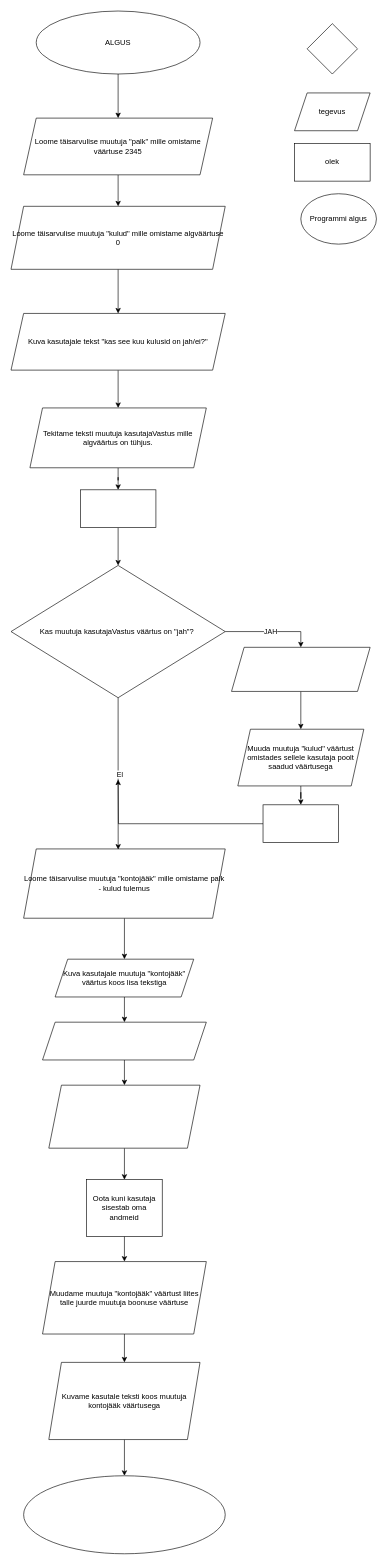
The diagram is 387 pixels wide and 1565 high, and some of its shapes have lost their labels. The centre of each missing label's shape, as x and y in pixels:
"Kuva kasutajale tekst mis palub sisestada väärtuse boonuse jaoks" belongs at point (124, 1041).
"Kuva kasutajale tekst: sisesta kulutuste summa" belongs at point (300, 669).
"Loome täisarvulise muutuja boonus mille omistame kasutaja sisesgtatud väärtuse" belongs at point (124, 1116).
"LÕPP" belongs at point (124, 1514).
"Oota kuni kasutaja sisestab väärtuse" belongs at point (300, 823).
"Oota kuni kasutaja vastab ning omista väärtus muutujasse kasutajaVastus" belongs at point (118, 508).
"otsus" belongs at point (332, 48).
